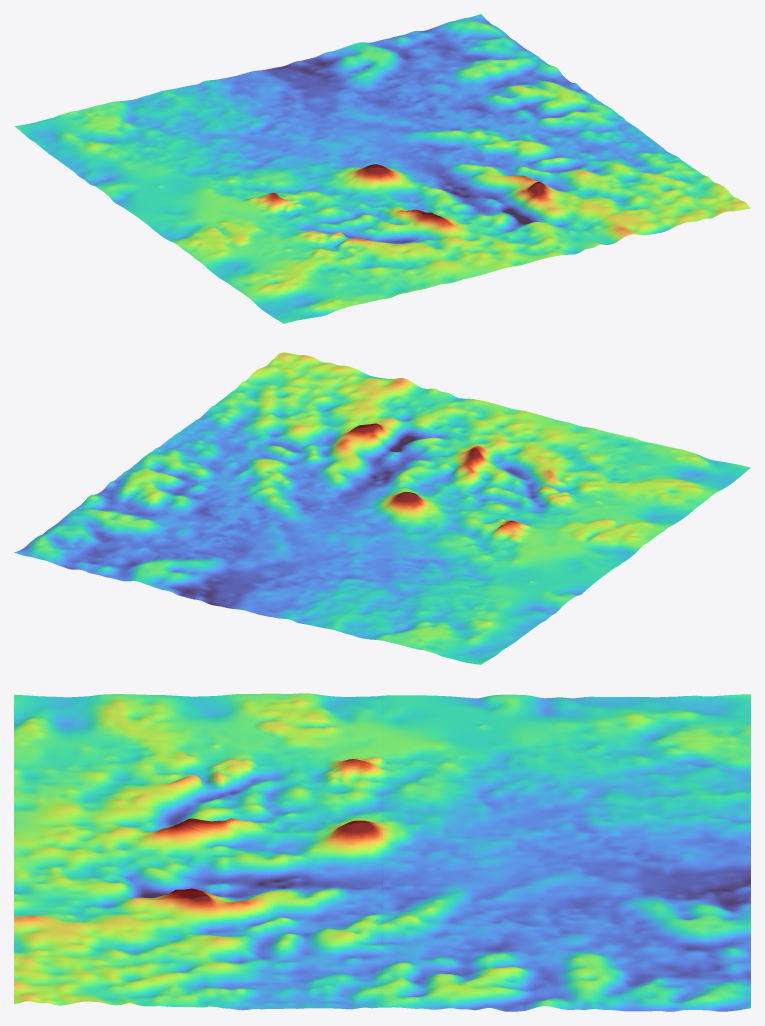
File: bedtopoinc.glb
3 views of the same model, one above another, from view 1: azimuth 30°, elevation 25°; view 2: azimuth 150°, elevation 25°; view 3: azimuth 270°, elevation 25° (orthographic). The views are drawn at different scales.
Visible parts, largest first — view 1: bedmap2_bed; view 2: bedmap2_bed; view 3: bedmap2_bed.
Part boxes in pixels (box(x1,y1,x2,y2)): bedmap2_bed: box(14, 14, 750, 323); bedmap2_bed: box(14, 352, 750, 664); bedmap2_bed: box(14, 693, 750, 1011).
Bounding box in the file's own units: 500747 × 20870 × 500747.
1 material, 1 textured.
